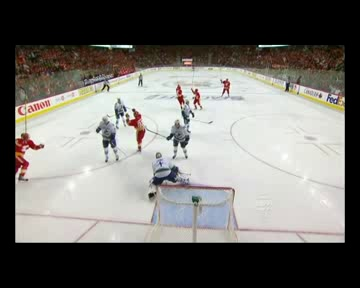normal: (111, 94, 155, 153), (141, 152, 195, 200), (166, 81, 205, 127), (14, 129, 48, 180), (160, 116, 191, 160)
